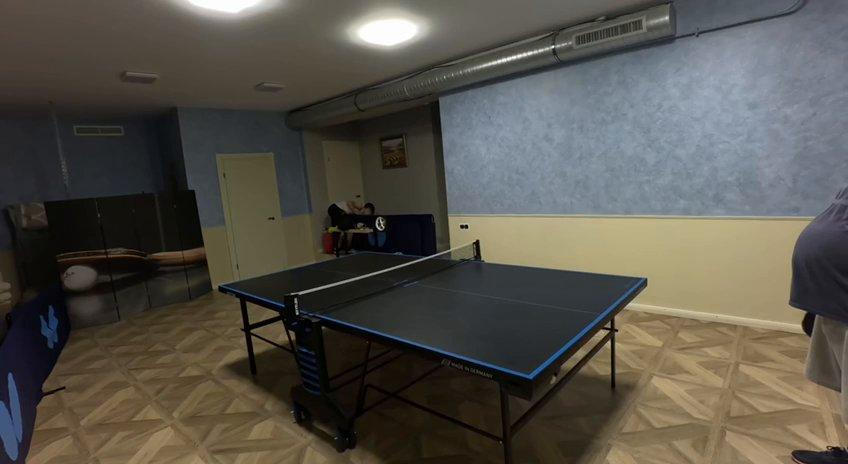Net: (285, 241, 481, 319)
Player1: (327, 196, 374, 249)
Player2: (789, 185, 847, 431), (792, 443, 847, 463)
Table: (221, 250, 646, 379)
